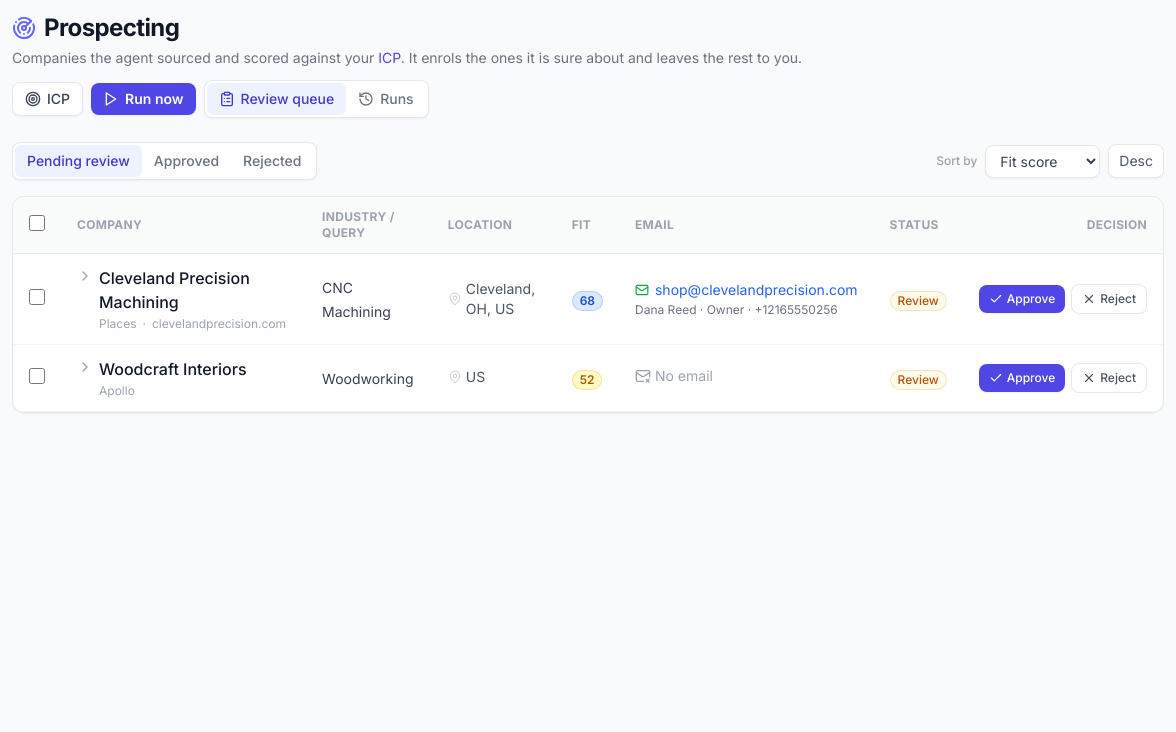
it: Prospecting page › explains a fit score with the model's reasoning and the component split
Click the button named "show why Cleveland Precision Machining scored 68".
click(85, 276)  # box x1=77 y1=268 x2=93 y2=284
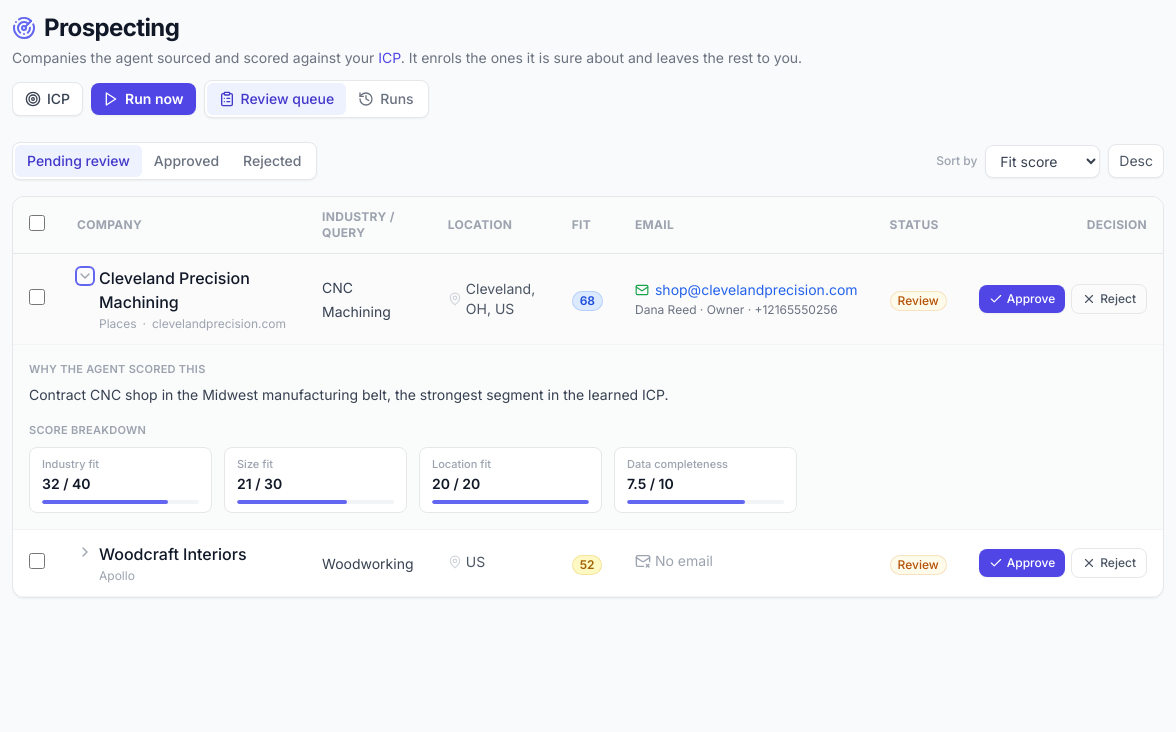
Now the text "strongest segment in the learned ICP" is shown, box x1=29 y1=386 x2=669 y2=402
Now the text "32 / 40" is shown, box x1=42 y1=475 x2=91 y2=492
Now the text "21 / 30" is shown, box x1=237 y1=475 x2=282 y2=492
